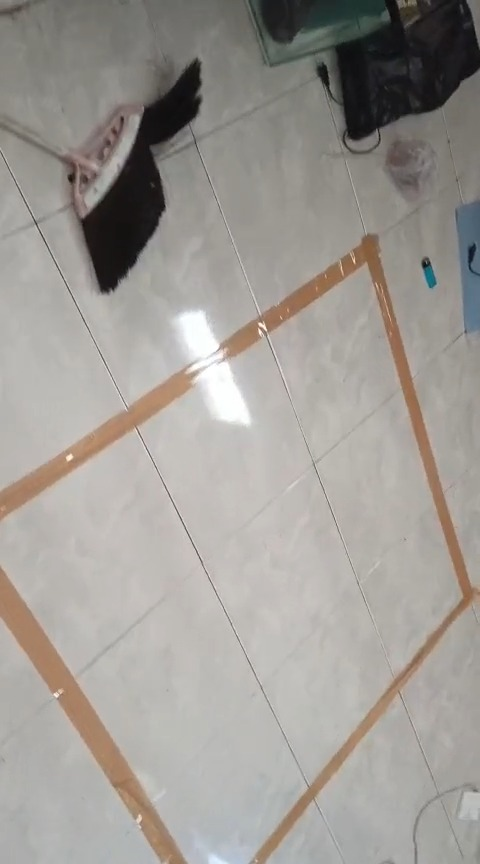floor marking: (0, 235, 479, 863), (0, 568, 186, 863)
